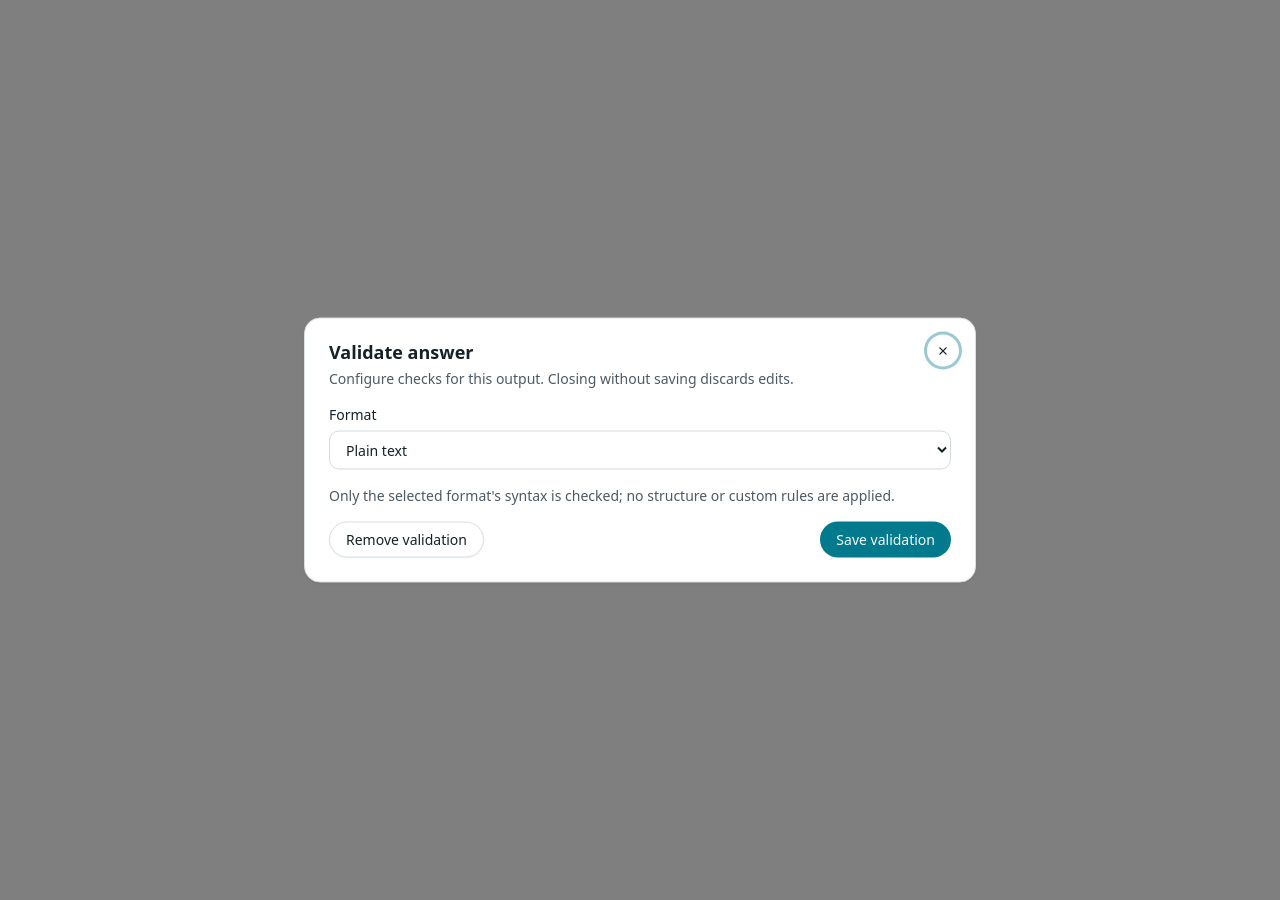
Test case: output validation format editor › shows shared lively feedback while the code editor is loading
Select "YAML" in the dropdown labelled "Format" at (640, 450), box [329,430,951,470]
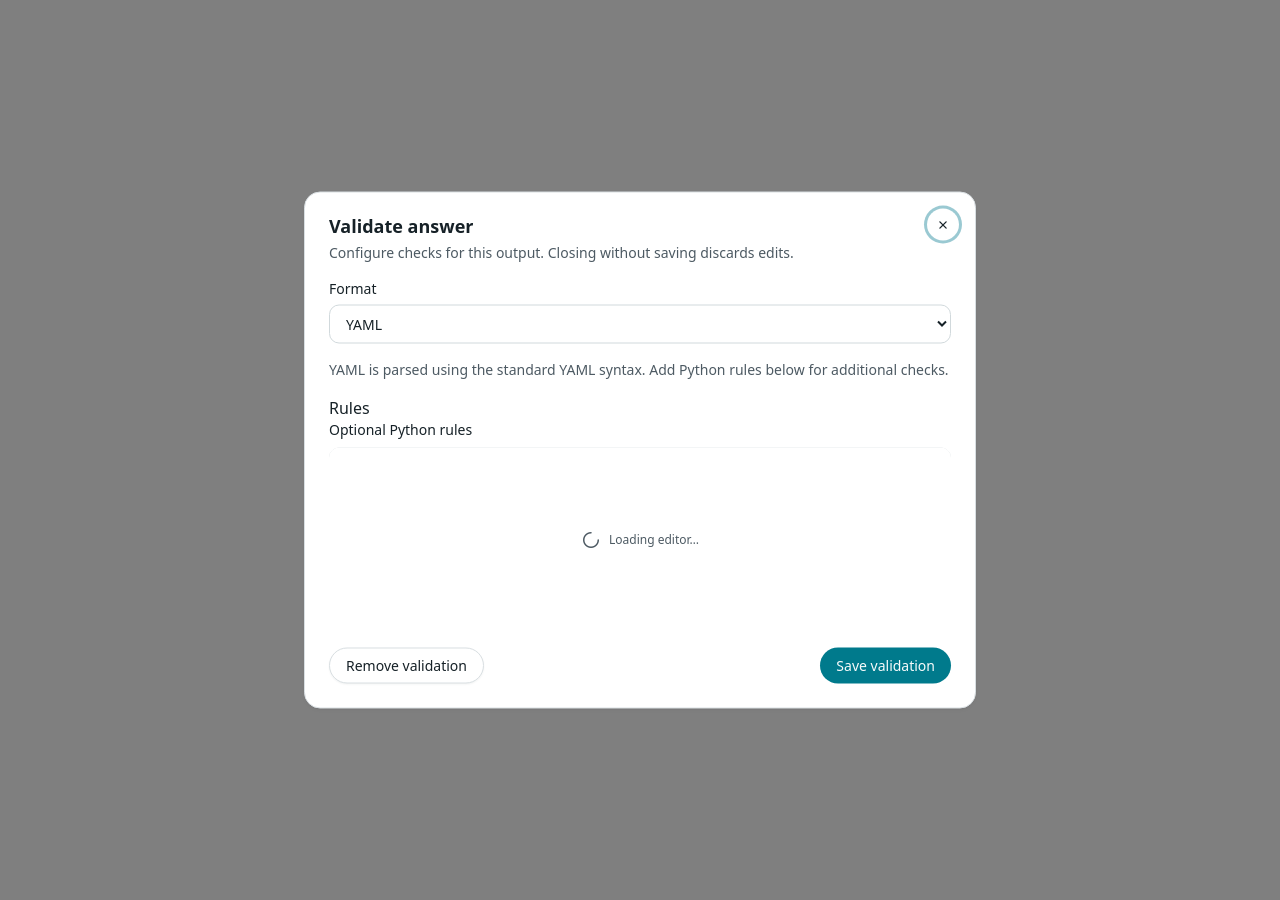
Expected: the message "Loading editor…" is shown, [329,448,951,632]
